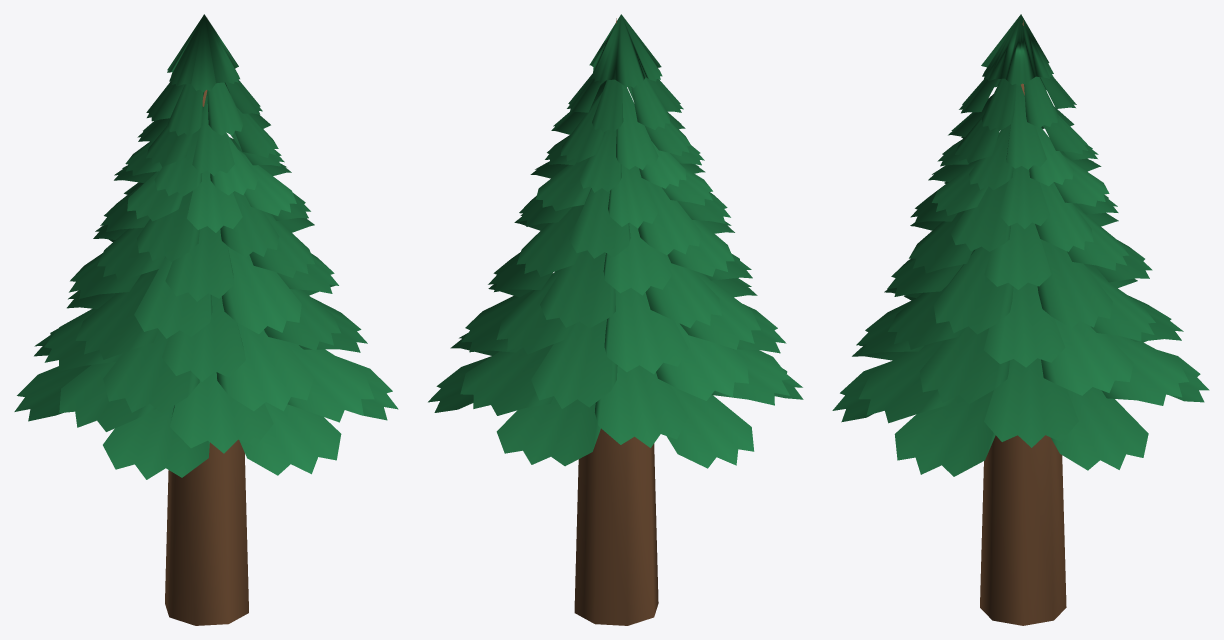
File: pine_crown.gltf
3 views of the same model, side by side, from view 1: azimuth 30°, elevation 25°; view 2: azimuth 150°, elevation 25°; view 3: azimuth 270°, elevation 25° (orthographic).
Visible parts, largest first — view 1: pine_paws.001; view 2: pine_paws.001; view 3: pine_paws.001.
Boxes of the visible parts, x1,y1,x2,y2 form: pine_paws.001: [14, 14, 398, 625]; pine_paws.001: [428, 14, 803, 625]; pine_paws.001: [832, 14, 1209, 625].
Size of the model in its own units: 4.43 by 8.06 by 4.66.
